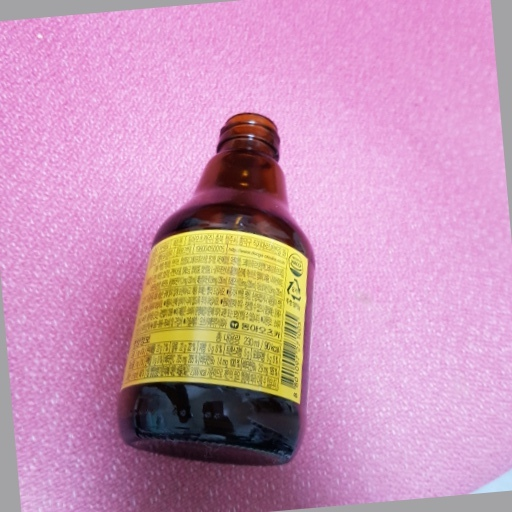Glass_3: (115, 111, 315, 468)
